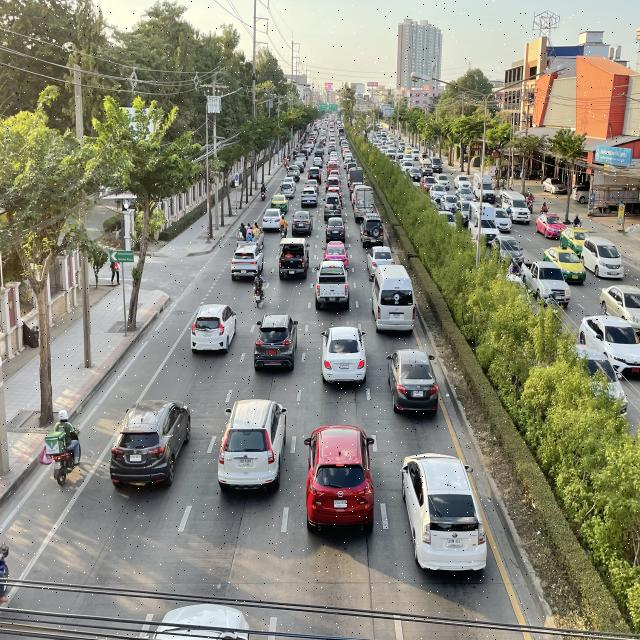bike: (40, 406, 84, 488), (252, 265, 267, 313)
car: (400, 446, 490, 580), (214, 399, 293, 494)
truck: (277, 237, 311, 282), (235, 221, 265, 254), (352, 185, 374, 224)
